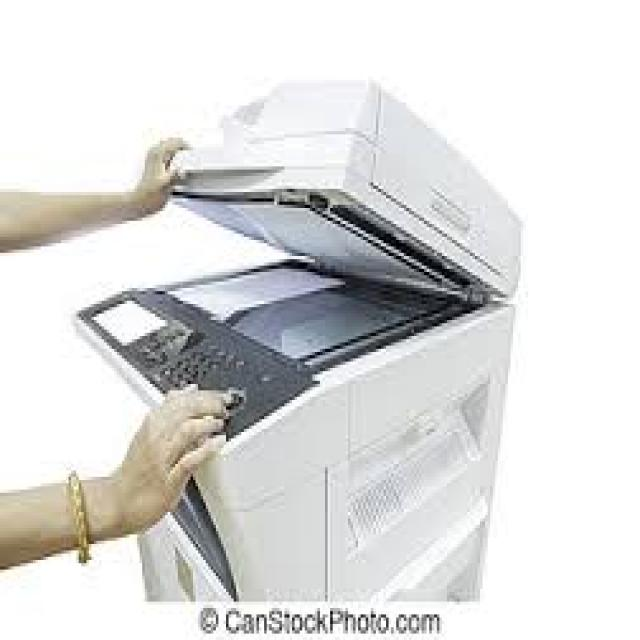printer: (59, 63, 534, 622)
